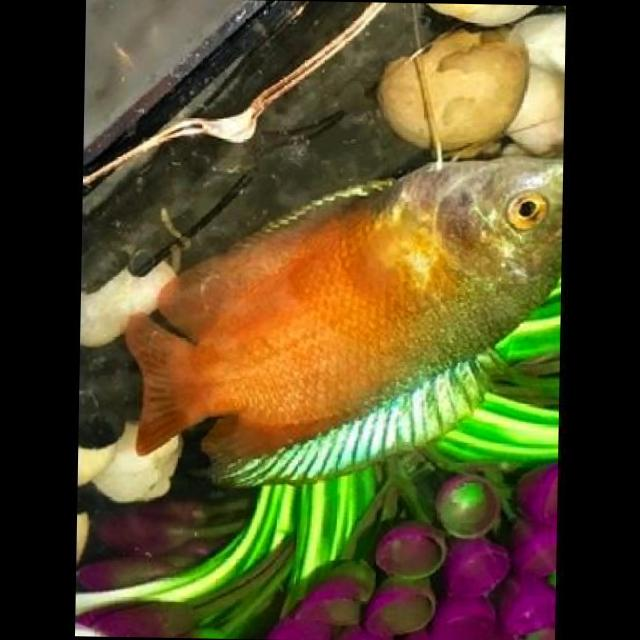Gourami: (120, 148, 564, 499)
